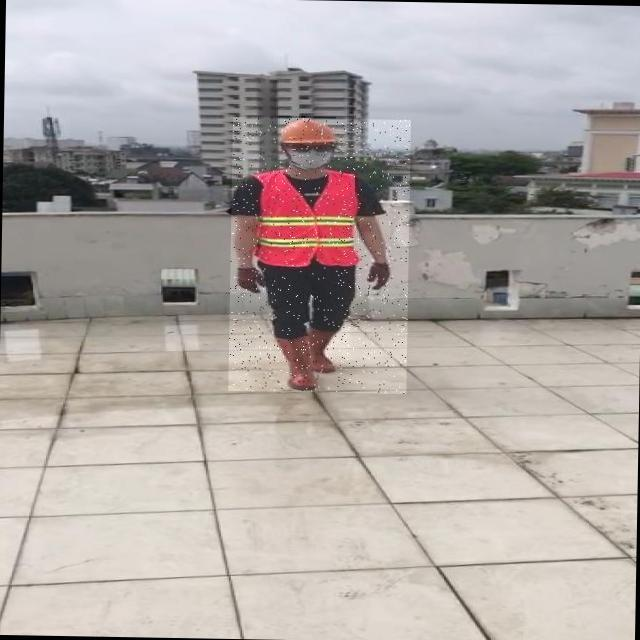Gloves: (233, 265, 266, 295), (365, 263, 394, 292)
Helmet: (278, 116, 336, 145)
Human: (228, 117, 411, 394)
Safety Boot: (269, 333, 318, 390), (305, 327, 334, 372)
Safety Vest: (250, 170, 364, 267)
